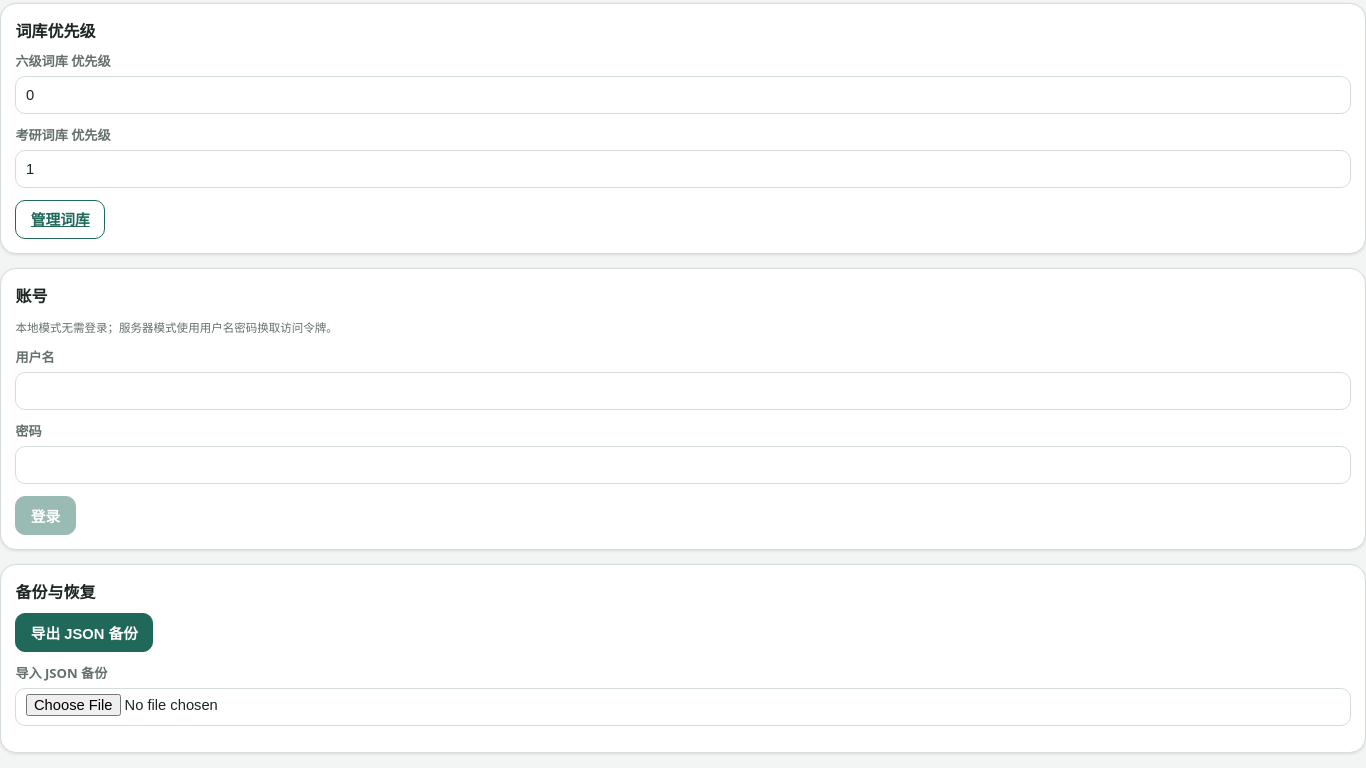
设置页 › 服务器模式提供登录并保存 Token
The image size is (1366, 768).
(page scrolled)
Type "admin" into the field labelled "用户名" at (683, 391), box [15, 372, 1351, 410]
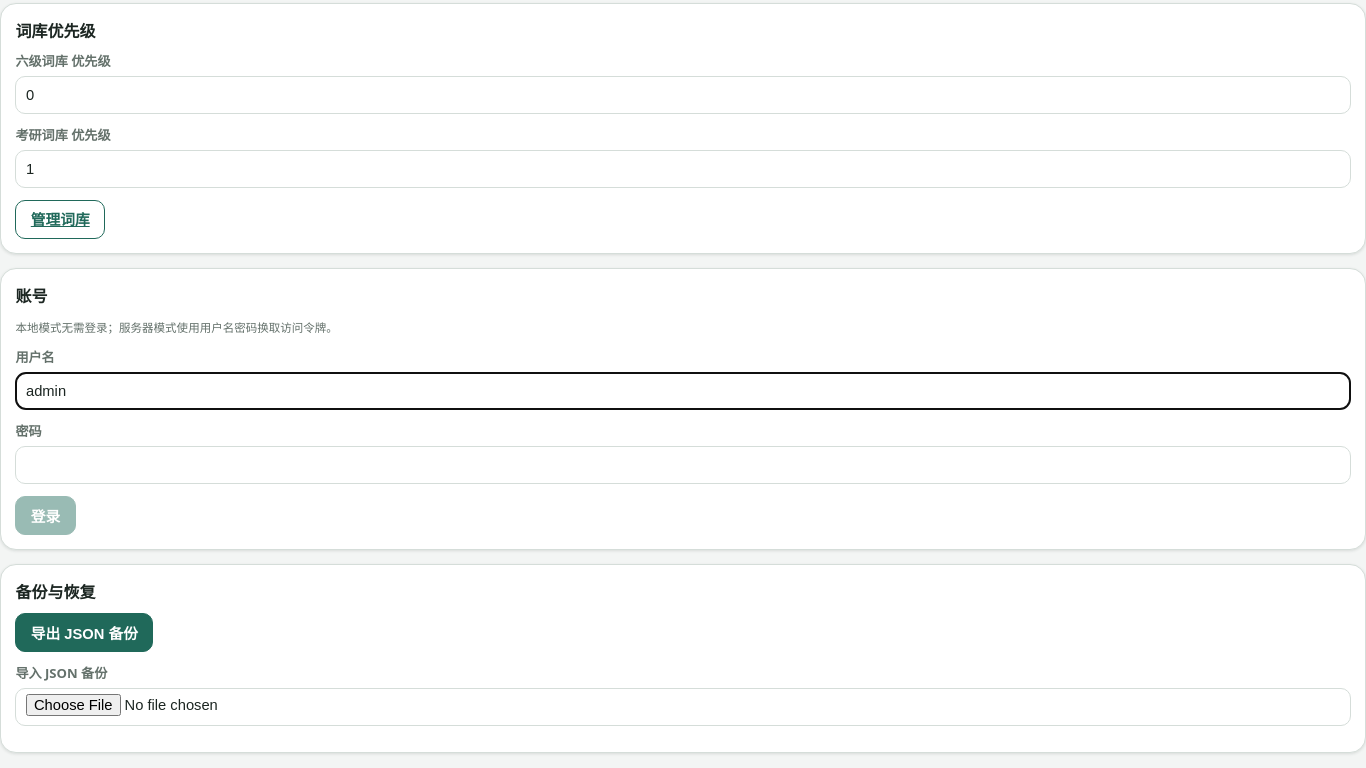
Type "secret" into the password field labelled "密码" at (683, 465), box [15, 446, 1351, 484]
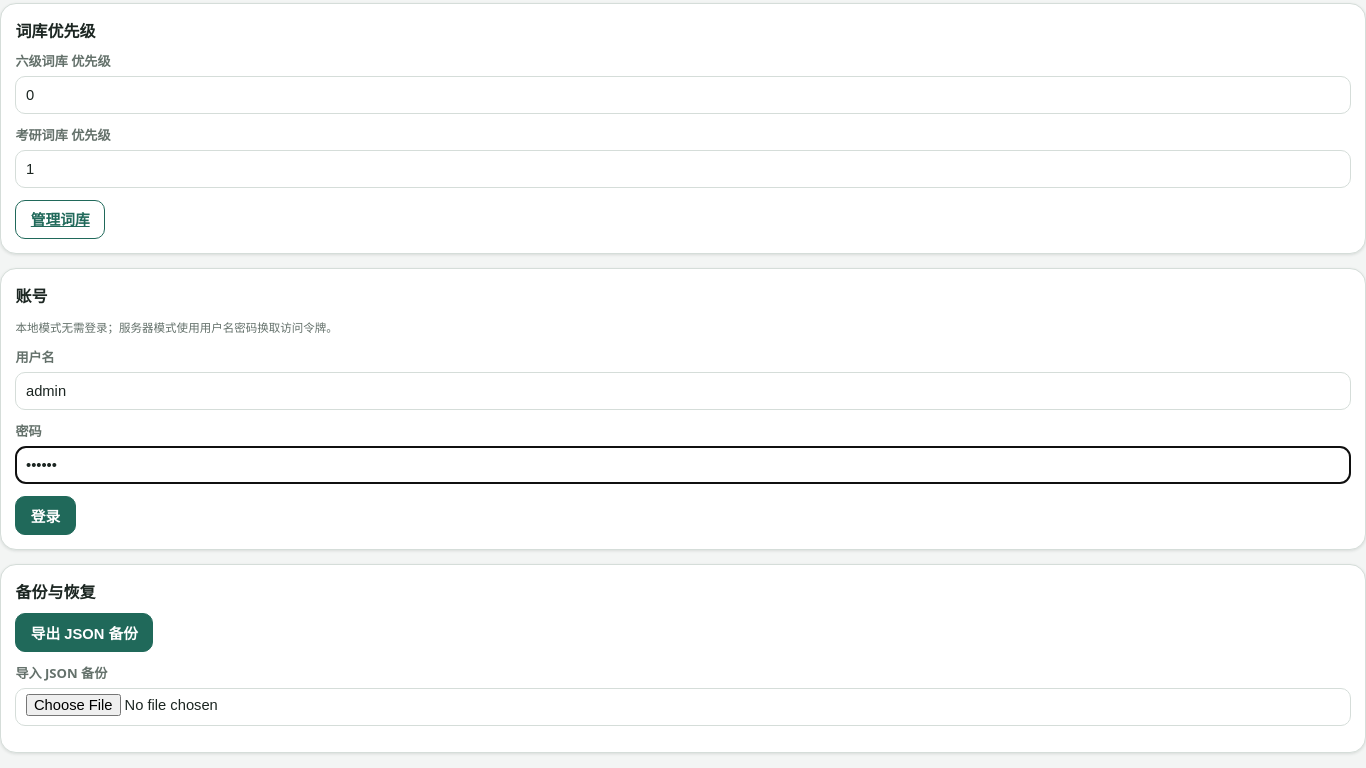
Click the button "登录" at (46, 516), box [15, 496, 76, 535]
(page scrolled)
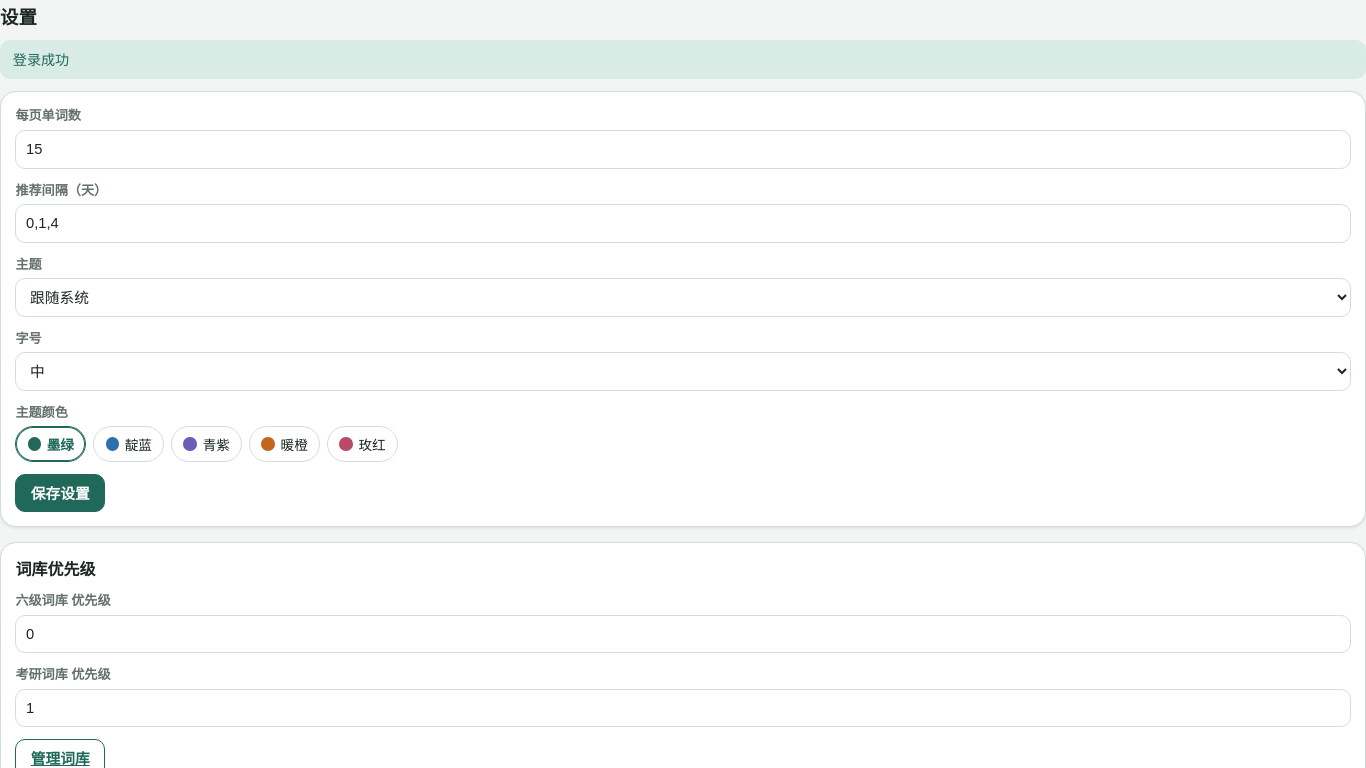
Check: the text "登录成功" is shown, box [0, 40, 1365, 79]
